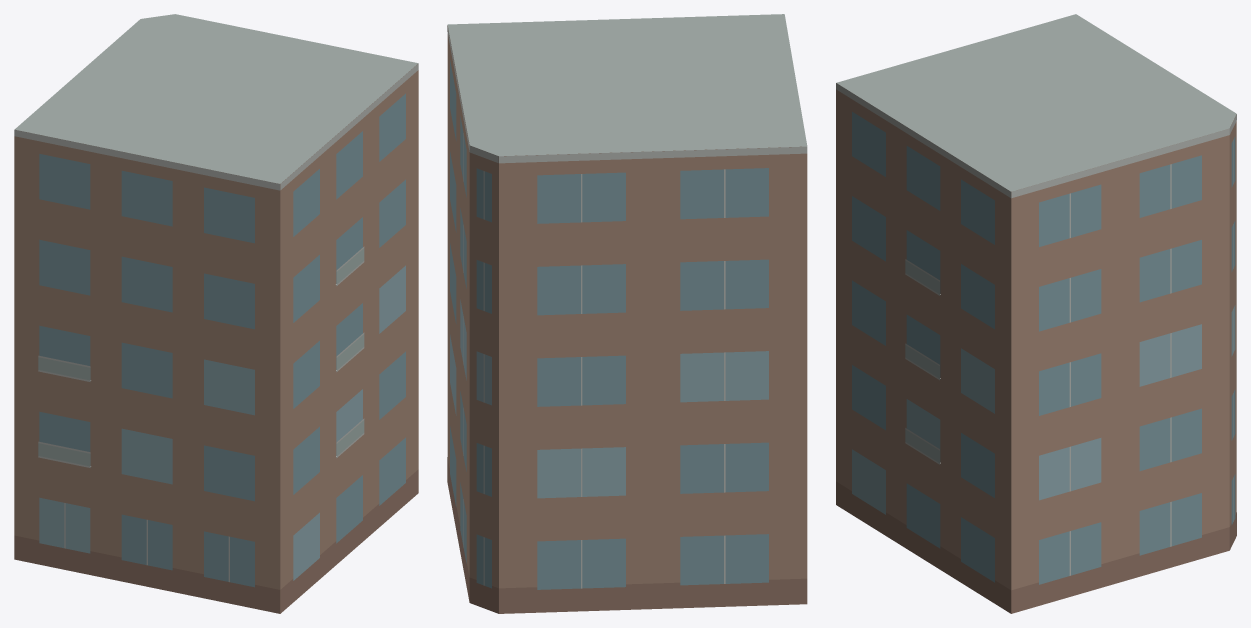
File: survey-upis-32986678.glb
The picture shows the model from 3 angles, left to right: view 1: azimuth 30°, elevation 25°; view 2: azimuth 150°, elevation 25°; view 3: azimuth 270°, elevation 25°; orthographic projection. The views are drawn at different scales.
Visible parts, largest first — view 1: survey-upis-32986678.tmp; view 2: survey-upis-32986678.tmp; view 3: survey-upis-32986678.tmp.
Boxes of the visible parts, <box> form: survey-upis-32986678.tmp: <box>14,14,418,613</box>; survey-upis-32986678.tmp: <box>447,14,807,613</box>; survey-upis-32986678.tmp: <box>836,14,1236,613</box>.
Size of the model in its own units: 14.28 by 15.8 by 13.6.
